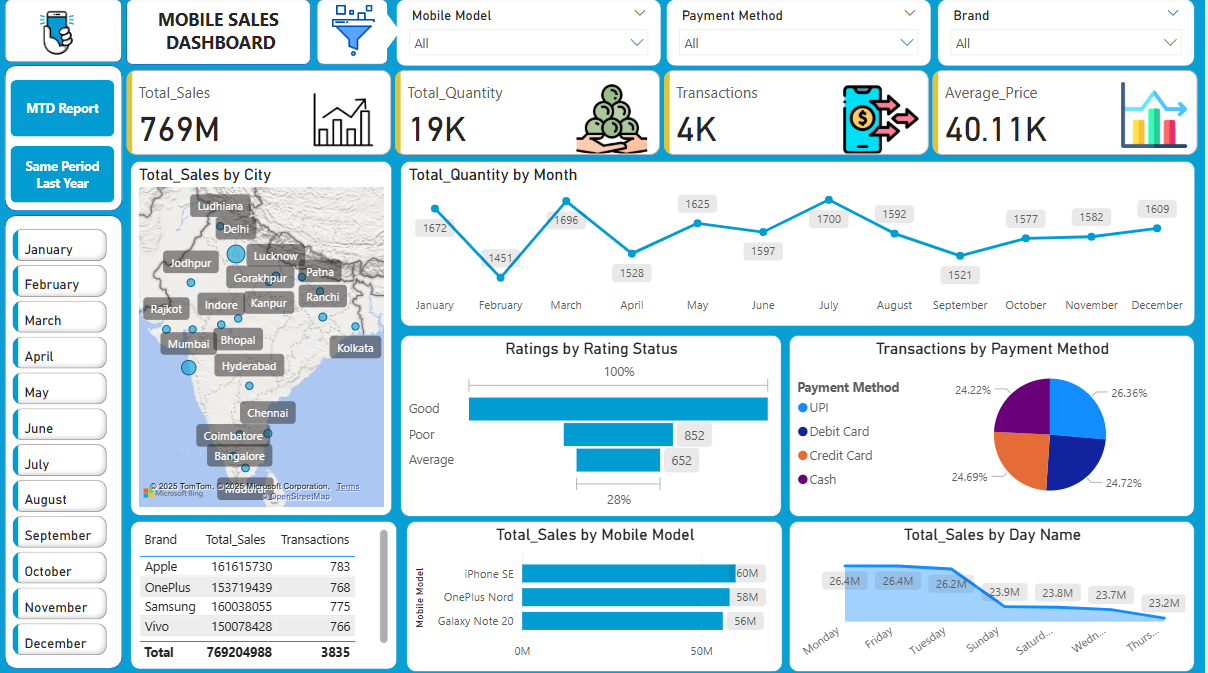

Layout of this report page (visuals, bound fields, positions):
{"tool":"powerbi","page":{"name":"Dashboard","canvas":[1280,720],"ordinal":0},"visuals":[{"type":"shape","box":[7.5,3.8,125,67.5],"z":0},{"type":"image","box":[23.8,3.8,78.8,71.2],"z":1000},{"type":"shape","box":[7.5,73.8,125,155],"z":2000},{"type":"shape","box":[7.5,232.5,125,481.2],"z":3000},{"type":"advancedSlicerVisual","fields":{"Values":["Custom_Calendar.Date.Variation.Date Hierarchy.Month"]},"box":[11.2,241.2,110,472.5],"z":4000},{"type":"cardVisual","fields":{"Data":["Sales_Data.Total_Sales","Sales_Data.Total_Quantity","Sales_Data.Transactions","Sales_Data.Average_Price"]},"box":[132.5,73.8,1147.5,100],"z":5000},{"type":"slicer","fields":{"Values":["Sales_Data.Mobile Model"]},"box":[423.8,3.8,281.2,71.2],"z":6000},{"type":"slicer","fields":{"Values":["Sales_Data.Payment Method"]},"box":[710,3.8,281.2,71.2],"z":7000},{"type":"slicer","fields":{"Values":["Sales_Data.Brand"]},"box":[997.5,3.8,272.5,71.2],"z":8000},{"type":"shape","box":[338.8,3.8,76.2,70],"z":9000},{"type":"image","box":[337.5,3.8,81.2,66.2],"z":10000},{"type":"shape","box":[397.5,17.5,30,40],"z":11000},{"type":"shape","box":[137.5,3.8,196.2,70],"z":12000},{"type":"textbox","box":[156.2,6.2,162.5,63.8],"z":13000},{"type":"map","fields":{"Category":["Sales_Data.City"],"Size":["Sales_Data.Total_Sales"]},"box":[141.2,175,277.5,376.2],"z":14000},{"type":"lineChart","fields":{"Y":["Sales_Data.Total_Quantity"],"Category":["Custom_Calendar.Date.Variation.Date Hierarchy.Month"]},"box":[427.5,175,842.5,175],"z":15000},{"type":"funnel","title":"Ratings by Rating Status","fields":{"Y":["Sum(Sales_Data.Customer Ratings)"],"Category":["Sales_Data.Rating Status"]},"box":[427.5,358.8,403.8,192.5],"z":16000},{"type":"pieChart","fields":{"Y":["Sales_Data.Transactions"],"Category":["Sales_Data.Payment Method"]},"box":[840,358.8,430,192.5],"z":17000},{"type":"clusteredBarChart","fields":{"Y":["Sales_Data.Total_Sales"],"Category":["Sales_Data.Mobile Model"]},"box":[433.8,556.2,398.8,160],"z":18000},{"type":"areaChart","fields":{"Y":["Sales_Data.Total_Sales"],"Category":["Custom_Calendar.Day Name"]},"box":[840,556.2,430,160],"z":19000},{"type":"tableEx","fields":{"Values":["Sales_Data.Brand","Sales_Data.Total_Sales","Sales_Data.Transactions"]},"box":[141.2,556.2,282.5,157.5],"z":20000},{"type":"pageNavigator","box":[15,88.8,110,130],"z":21000}]}

Visuals, with their boxes in screenshot pixels (x1, y1, x2, y2), scaled from the page's 1280x720 canvas onto the 1208x673 screenshot:
shape: Rect(7, 4, 125, 67)
image: Rect(22, 4, 97, 70)
shape: Rect(7, 69, 125, 214)
shape: Rect(7, 217, 125, 667)
advancedSlicerVisual - Custom_Calendar.Date.Variation.Date Hierarchy.Month: Rect(11, 225, 114, 667)
cardVisual - Sales_Data.Total_Sales x Sales_Data.Total_Quantity: Rect(125, 69, 1207, 162)
slicer - Sales_Data.Mobile Model: Rect(400, 4, 665, 70)
slicer - Sales_Data.Payment Method: Rect(670, 4, 935, 70)
slicer - Sales_Data.Brand: Rect(941, 4, 1199, 70)
shape: Rect(320, 4, 392, 69)
image: Rect(319, 4, 395, 65)
shape: Rect(375, 16, 403, 54)
shape: Rect(130, 4, 315, 69)
textbox: Rect(147, 6, 301, 65)
map - Sales_Data.City x Sales_Data.Total_Sales: Rect(133, 164, 395, 515)
lineChart - Sales_Data.Total_Quantity x Custom_Calendar.Date.Variation.Date Hierarchy.Month: Rect(403, 164, 1199, 327)
"Ratings by Rating Status" funnel: Rect(403, 335, 785, 515)
pieChart - Sales_Data.Transactions x Sales_Data.Payment Method: Rect(793, 335, 1199, 515)
clusteredBarChart - Sales_Data.Total_Sales x Sales_Data.Mobile Model: Rect(409, 520, 786, 669)
areaChart - Sales_Data.Total_Sales x Custom_Calendar.Day Name: Rect(793, 520, 1199, 669)
tableEx - Sales_Data.Brand x Sales_Data.Total_Sales: Rect(133, 520, 400, 667)
pageNavigator: Rect(14, 83, 118, 205)
